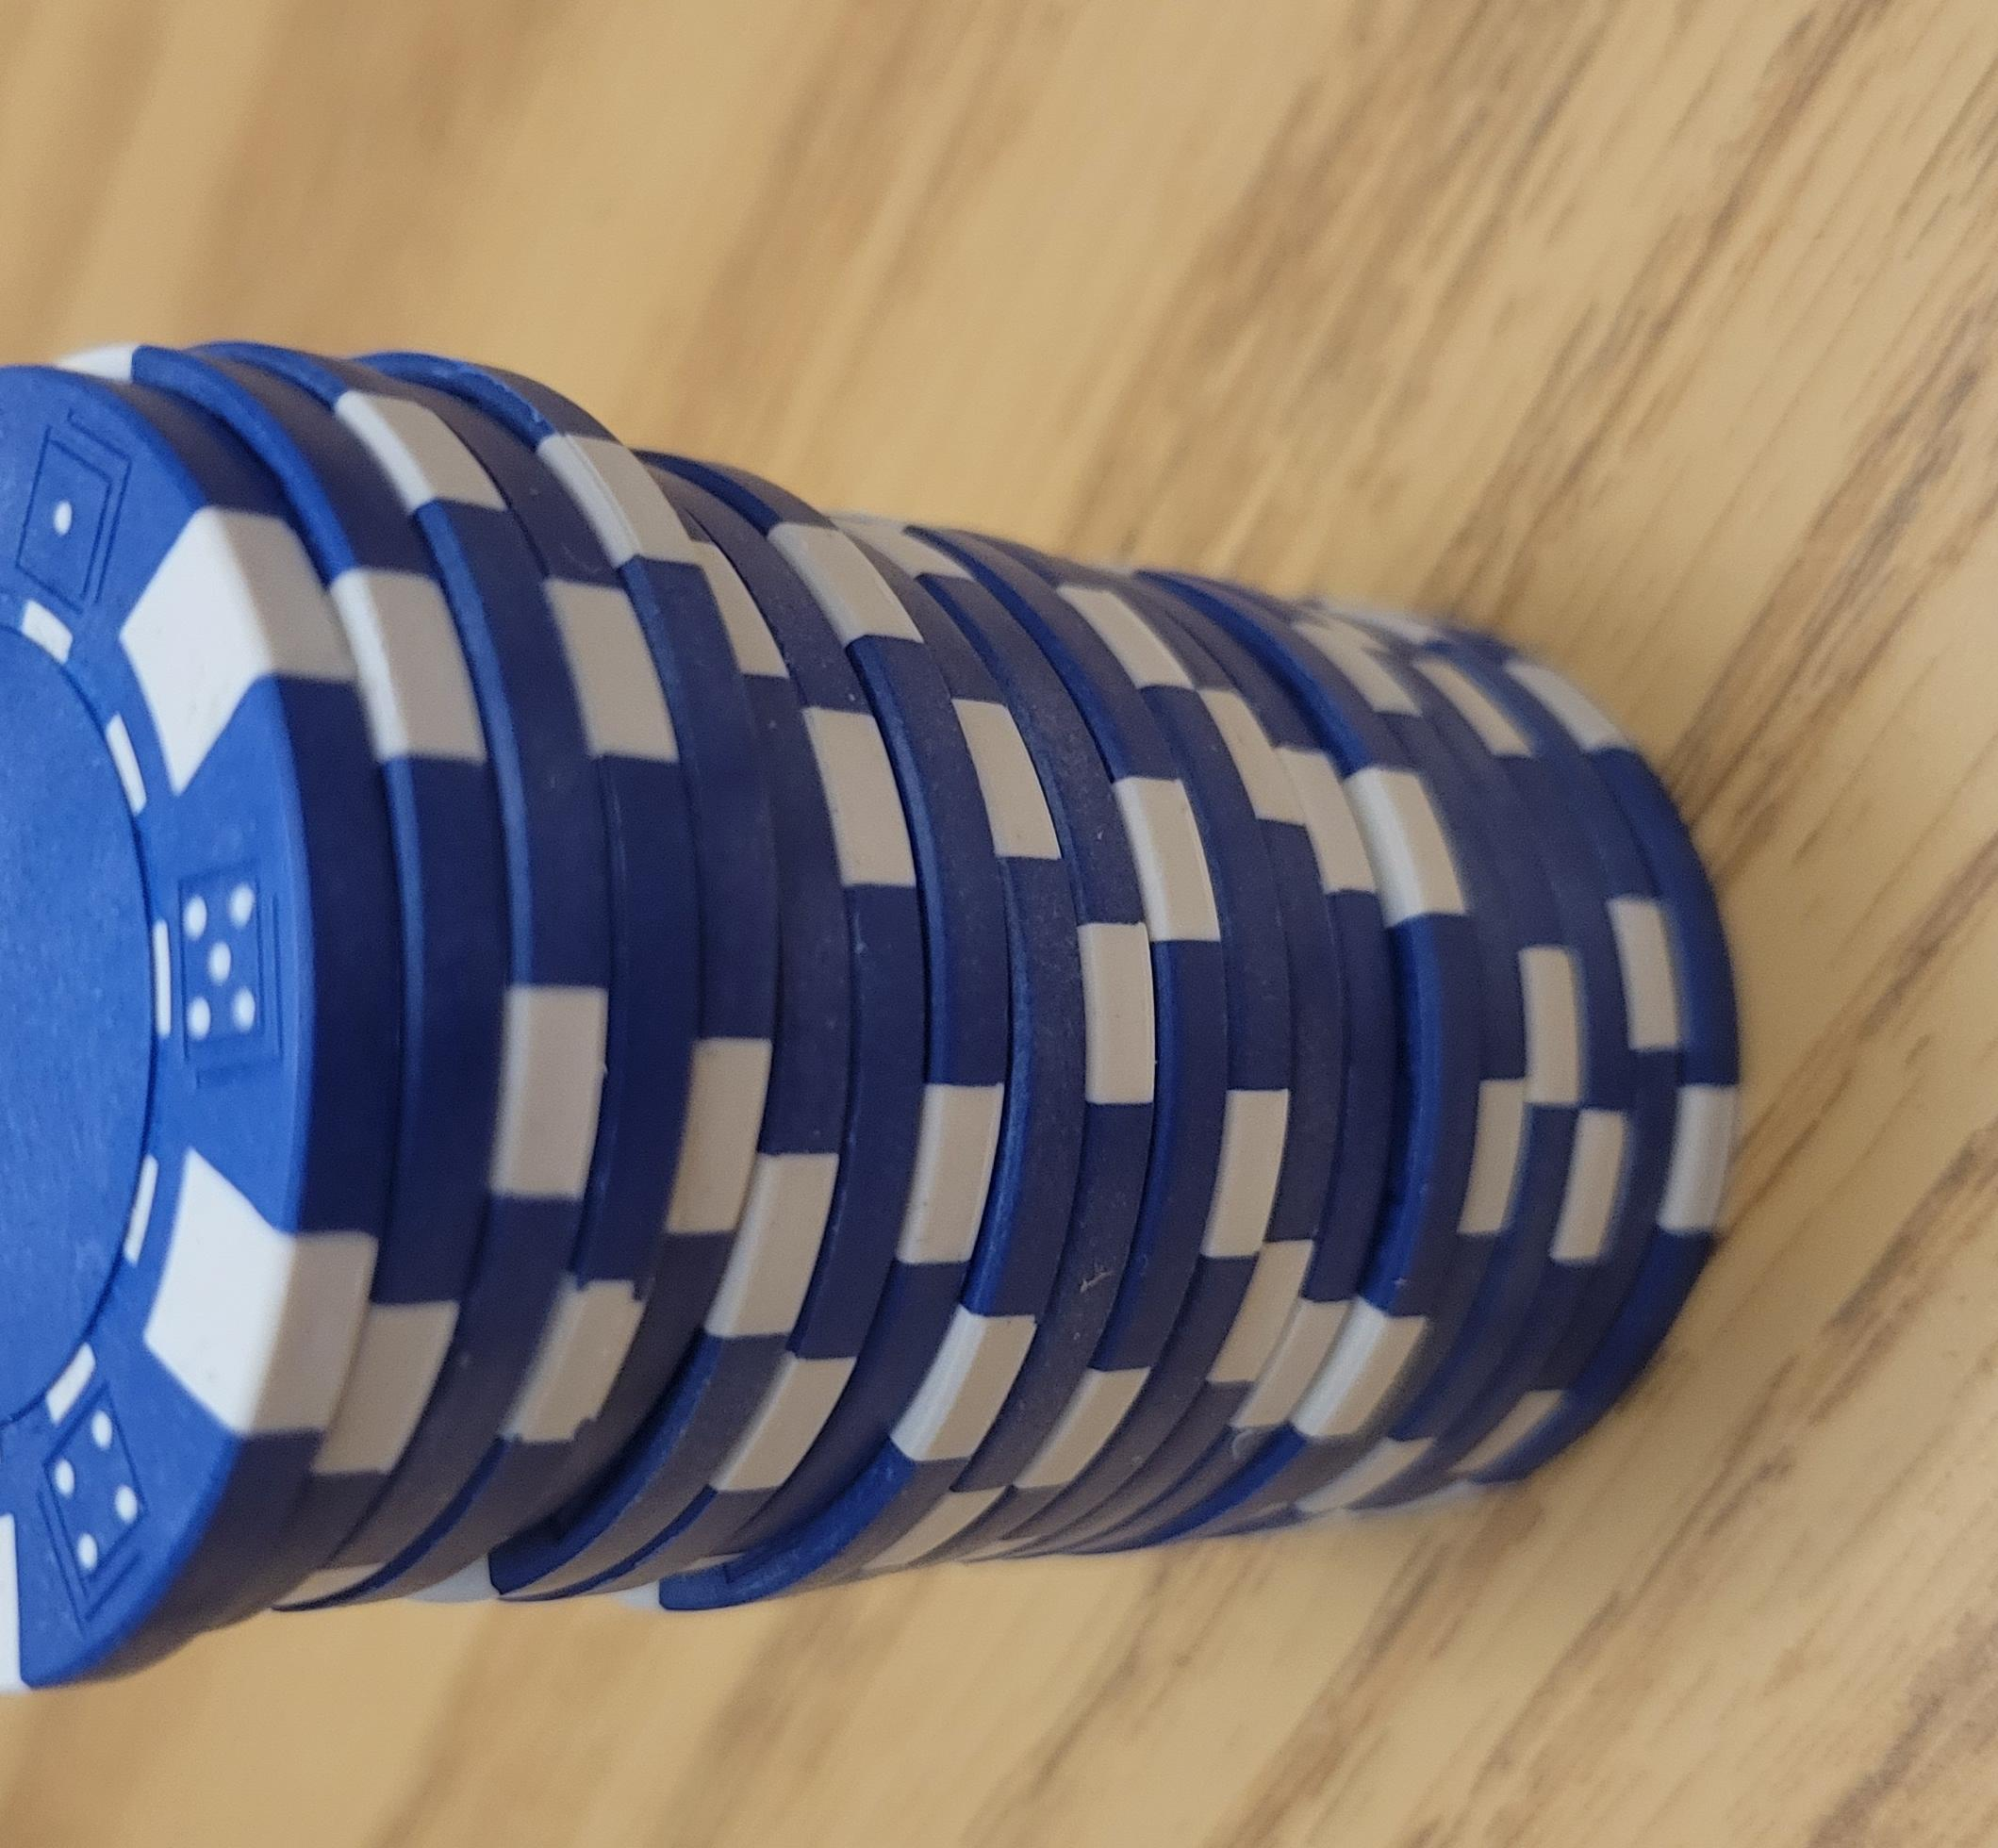Chip: (2, 129, 1248, 1848)
